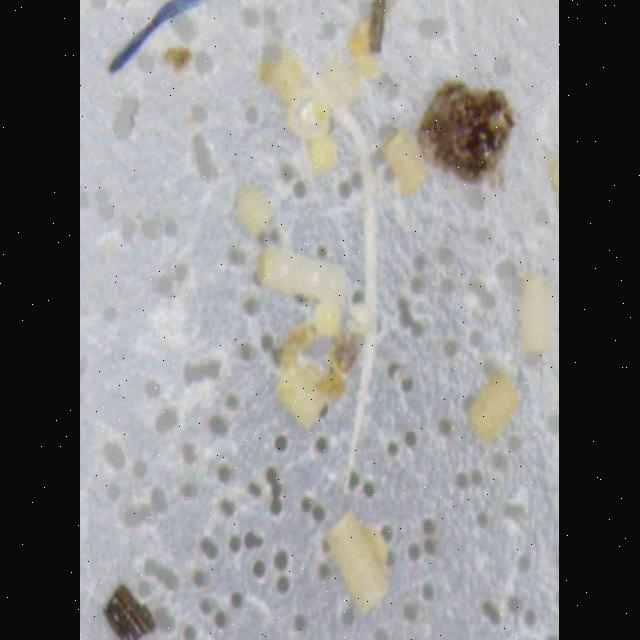Fibre: (263, 34, 382, 516)
